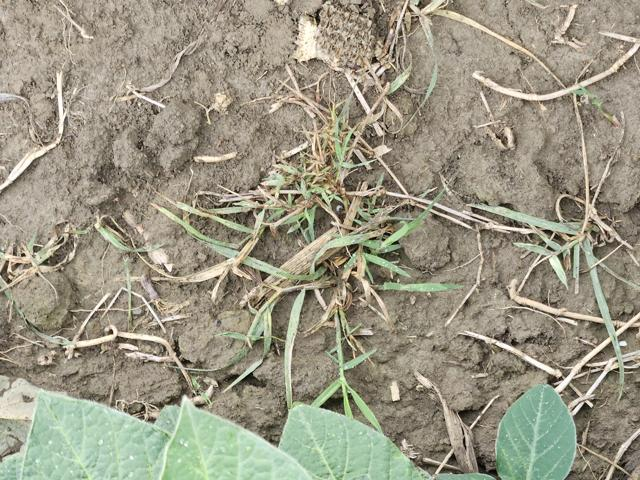bad weed: (165, 138, 438, 345), (510, 135, 640, 350)
